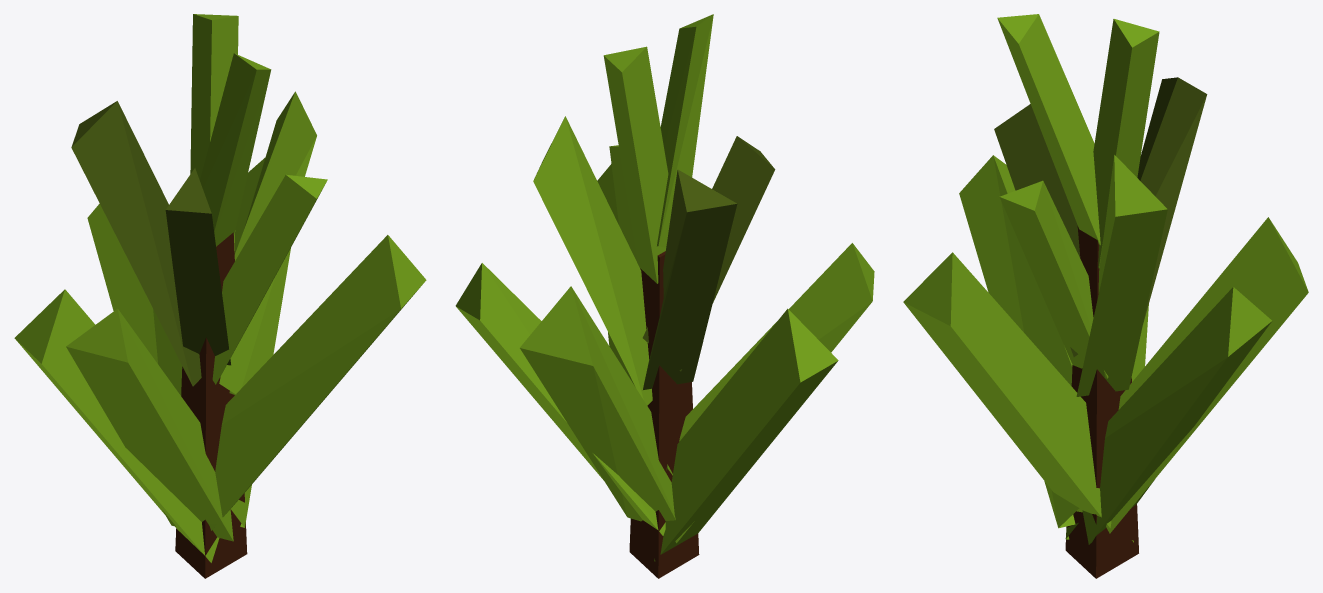
The model's file is Tree3_M2_2_small.fbx.
3 renders of one model, left to right at view 1: azimuth 30°, elevation 25°; view 2: azimuth 150°, elevation 25°; view 3: azimuth 270°, elevation 25°, orthographic. The views are drawn at different scales.
Visible parts, largest first — view 1: Tree3_M2_2_small; view 2: Tree3_M2_2_small; view 3: Tree3_M2_2_small.
Part boxes in pixels (x1,y1,x2,y2): Tree3_M2_2_small: (14,14,426,578); Tree3_M2_2_small: (455,14,874,578); Tree3_M2_2_small: (903,14,1308,578).
Bounding box in the file's own units: 82.5 × 127 × 85.43.
